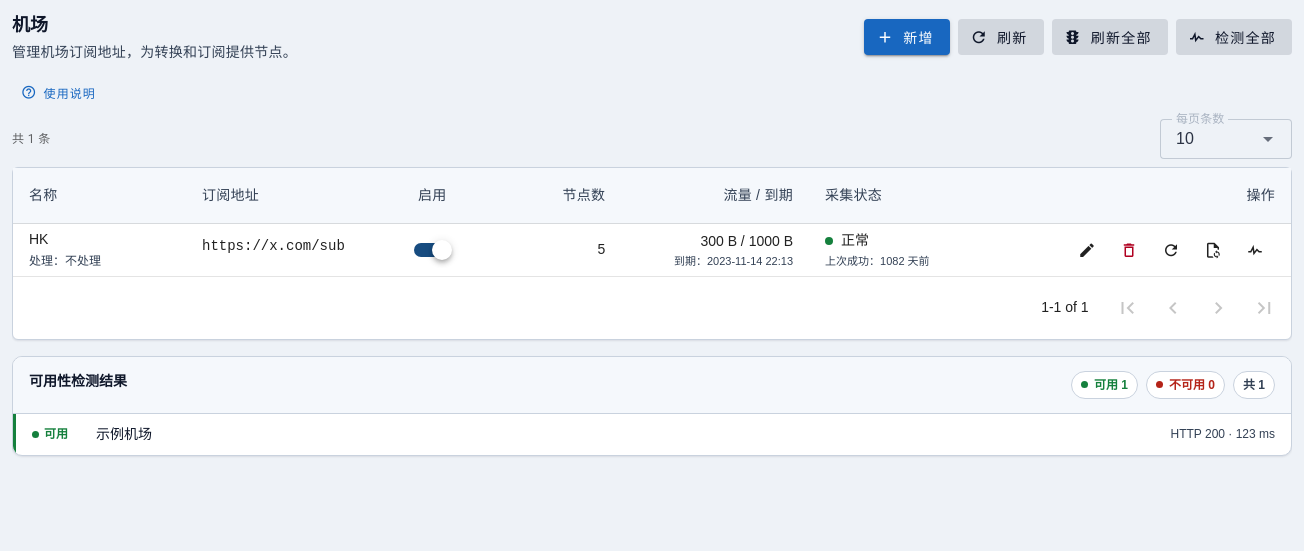
AirportsPage › D-24 检测全部后显示结果摘要
Click the button with test id "check-all" at x=1234, y=38, box [1176,20,1292,56]
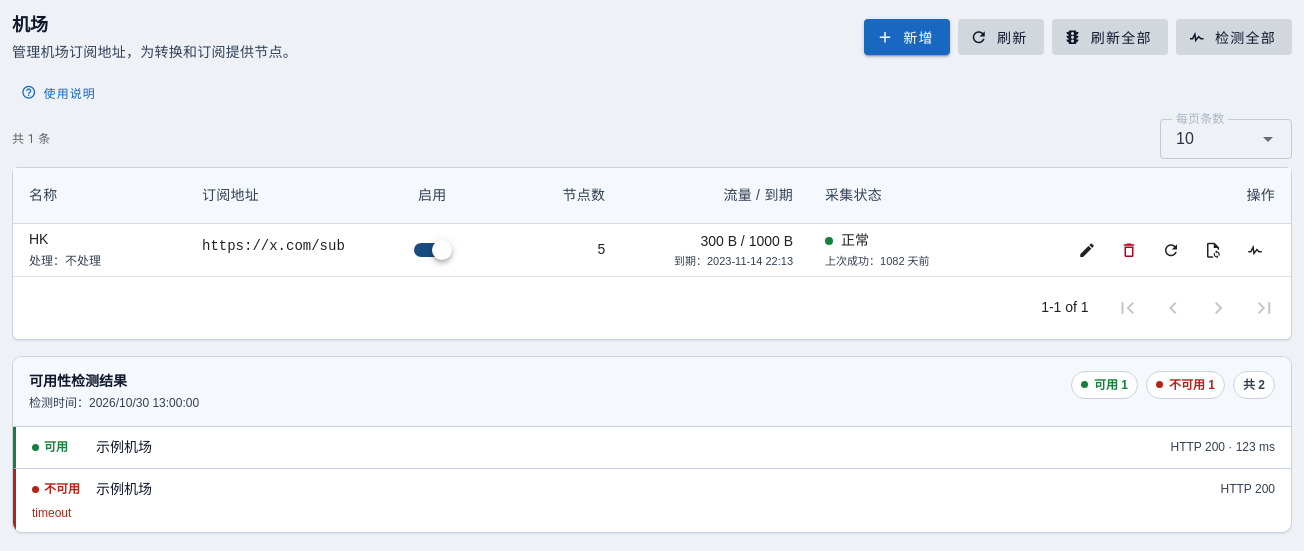
Expected: the element with test id "check-summary" shows "不可用 1", [1169,378,1215,392]
Expected: the element with test id "check-summary" shows "共 2", [1243,378,1265,392]
Expected: the text "检测时间" is shown, [29,396,199,410]
